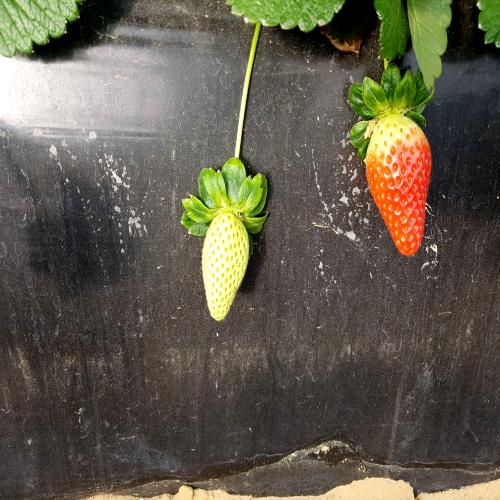partially-ripe: (365, 99, 436, 275)
unripe: (196, 205, 255, 327)
